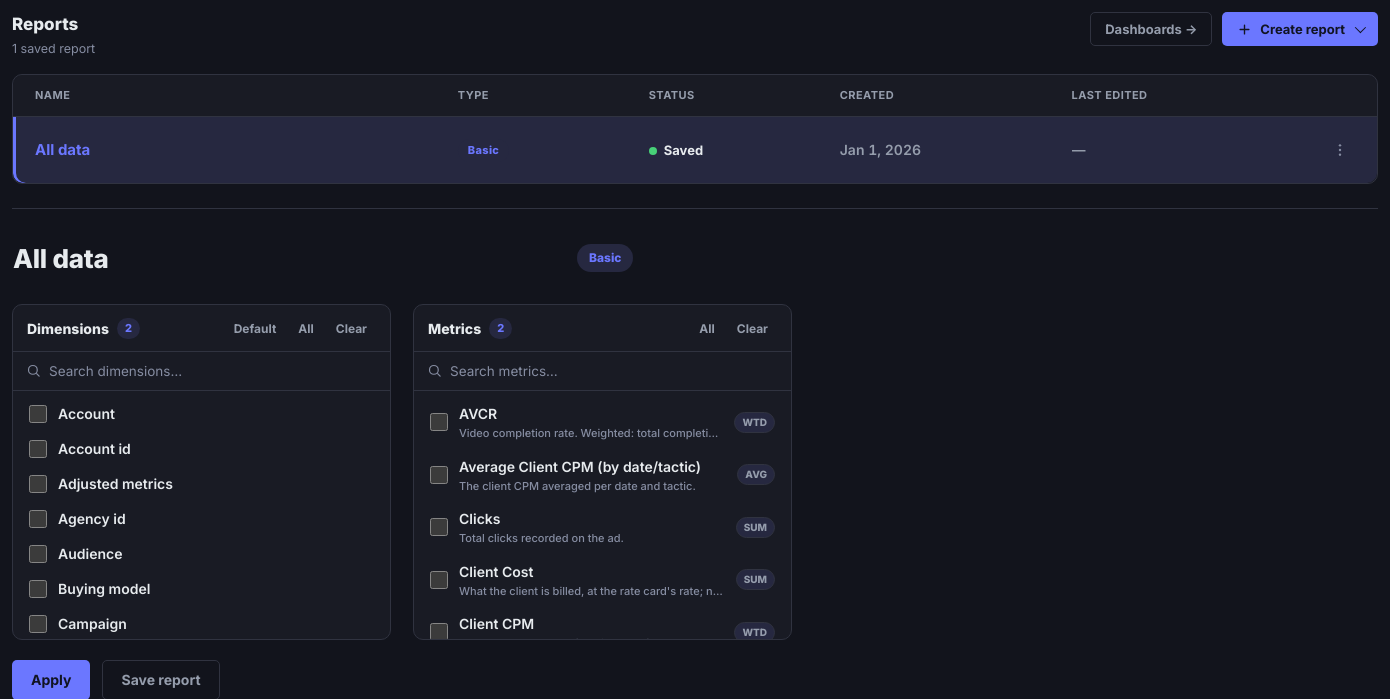
ReportingTab reports list › should require a non-blank report name before creating
The width and height of the screenshot is (1390, 699).
Click the button "Create report".
click(1300, 29)  # box [1222,12,1378,46]
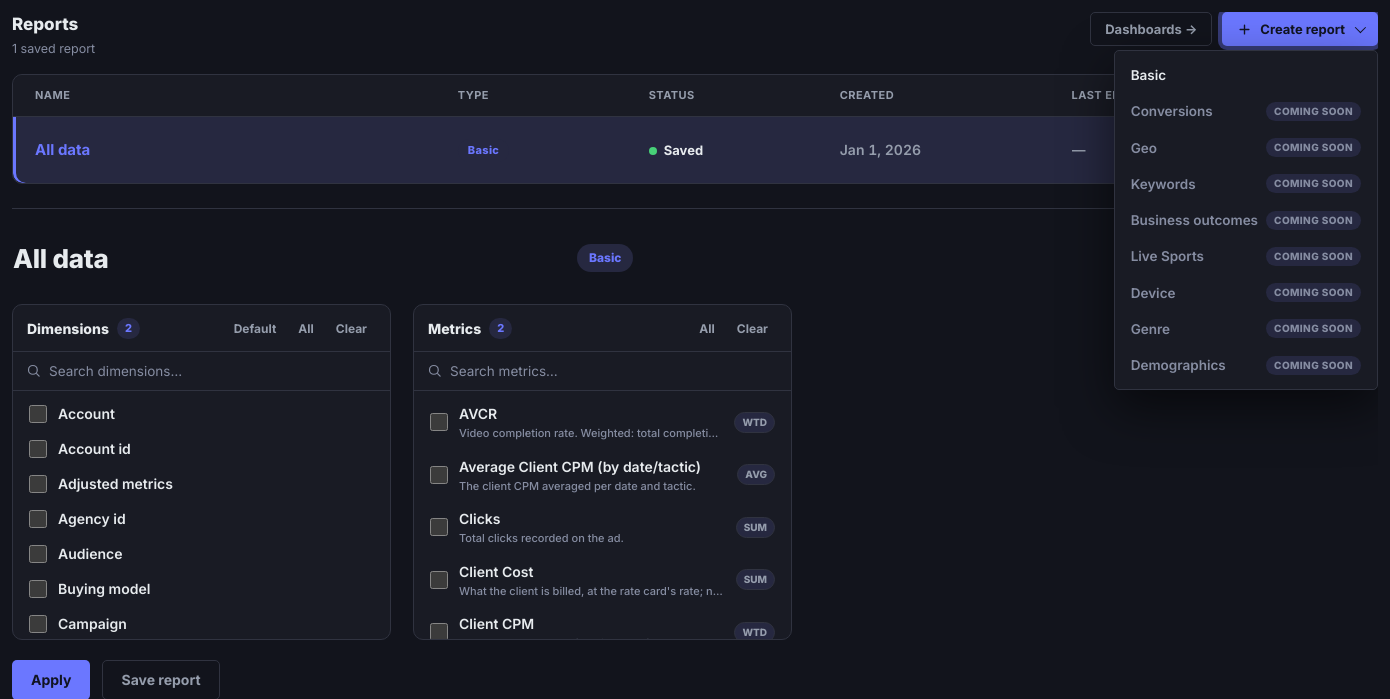
Click the menu item "Basic".
click(1246, 75)  # box [1121,57,1371,93]
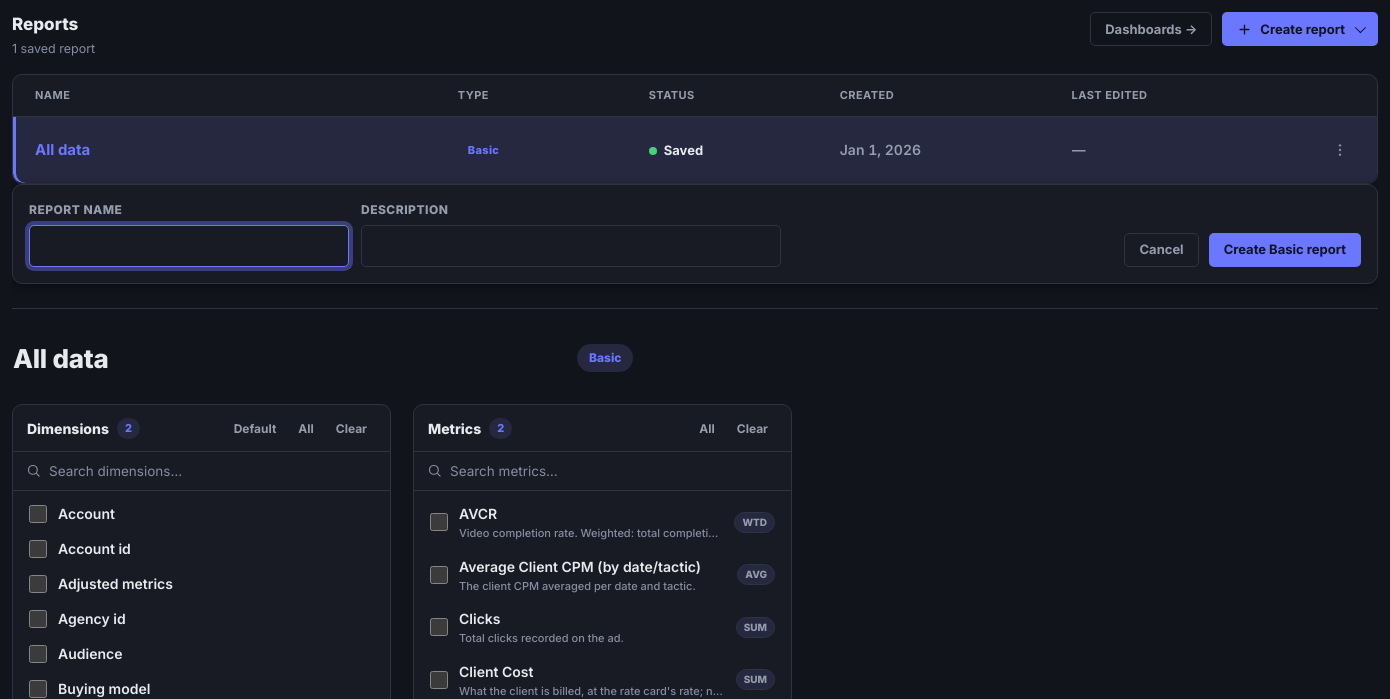
Click the button "Create Basic report".
click(1285, 250)  # box [1209,233,1361,267]
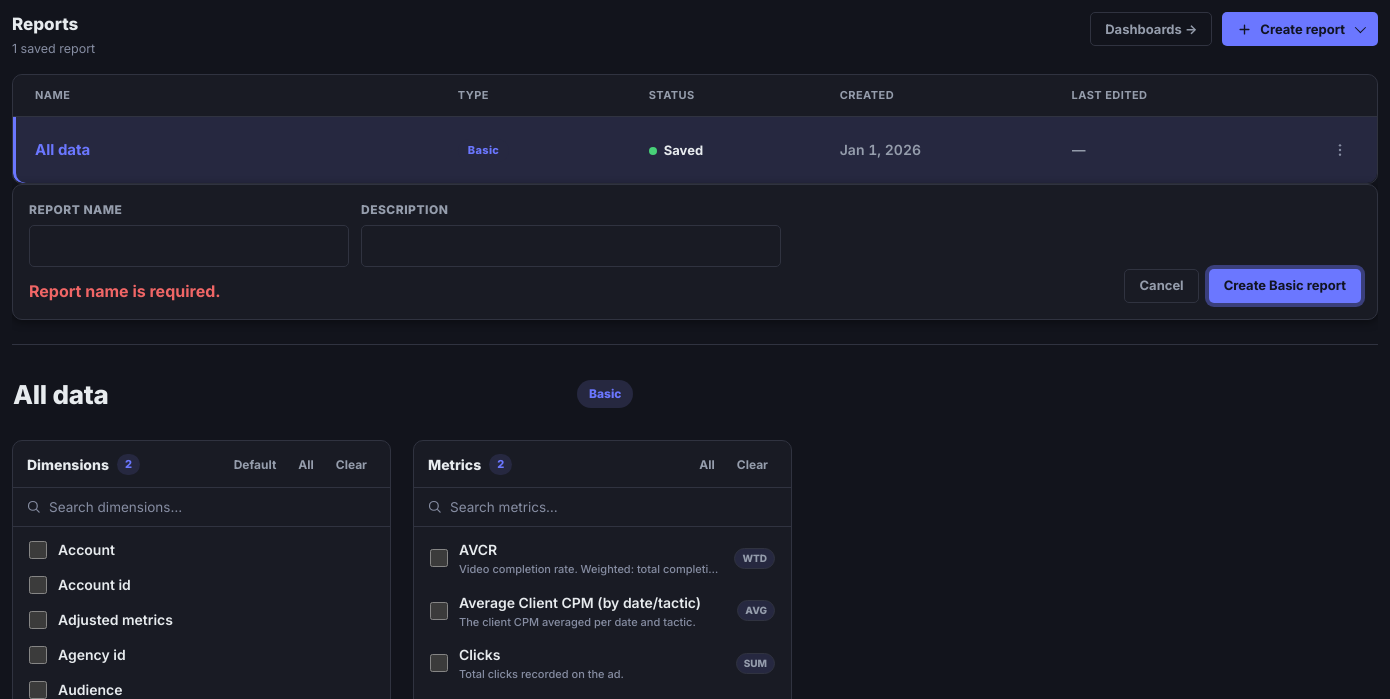
Expected: the text "Report name is required." is shown, [29,281,221,301]
